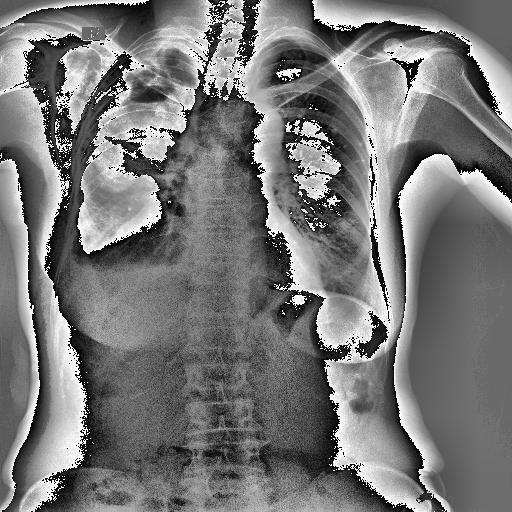0- Aortic enlargement: (224, 100, 285, 152)
1- Atelectasis: (60, 209, 162, 328)
10- Pleural effusion: (60, 209, 162, 328), (54, 254, 113, 289), (68, 223, 90, 282)
11- Pleural thickening: (128, 38, 208, 65), (68, 223, 90, 282), (268, 34, 316, 46)
13- Pulmonary fibrosis: (102, 136, 170, 184), (316, 128, 370, 176), (320, 124, 368, 174), (130, 60, 164, 98)
3- Cardiomegaly: (95, 206, 326, 294), (130, 254, 324, 305)
4- Consolidation: (79, 42, 195, 192), (82, 74, 190, 192)
7- Lung Opacity: (79, 42, 195, 192), (76, 174, 157, 252), (131, 50, 193, 103), (102, 136, 170, 184), (106, 203, 182, 242)
8- Nodule-Mass: (320, 124, 368, 174), (320, 154, 328, 162), (330, 128, 338, 133), (361, 171, 367, 176), (354, 159, 360, 164), (342, 143, 346, 148)
9- Other lesion: (56, 45, 104, 118)
